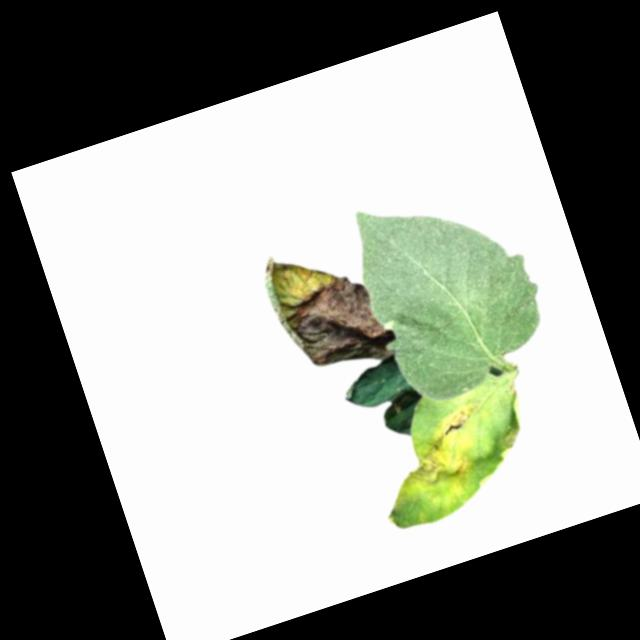Late_blight: (255, 225, 401, 389), (385, 401, 495, 501), (490, 423, 528, 461)
